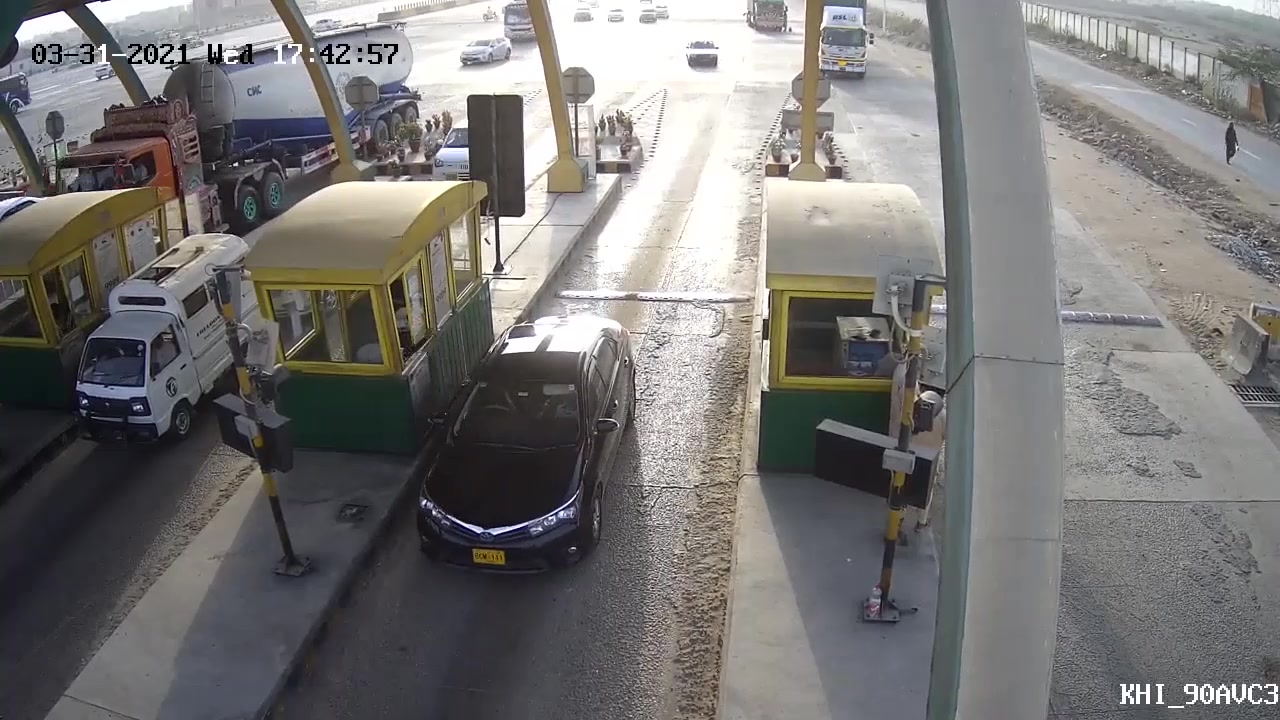F1: (394, 316, 644, 569)
